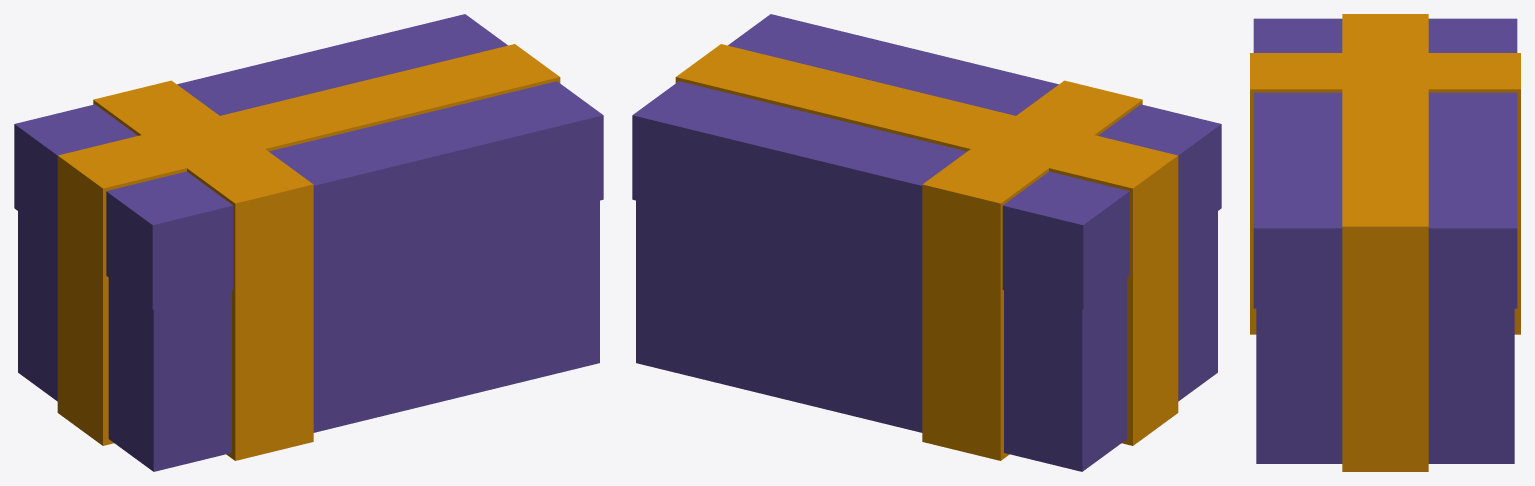
The model's file is cadeau3.dae.
3 renders of one model, left to right at view 1: azimuth 30°, elevation 25°; view 2: azimuth 150°, elevation 25°; view 3: azimuth 270°, elevation 25°, orthographic. The views are drawn at different scales.
Parts seen in each view (by area): view 1: Cube; view 2: Cube; view 3: Cube.
Boxes of the visible parts, box(x1,y1,x2,y2) form: Cube: box(14, 14, 603, 471); Cube: box(632, 14, 1221, 471); Cube: box(1250, 14, 1520, 471).
Size of the model in its own units: 97.31 by 52.36 by 52.36.
